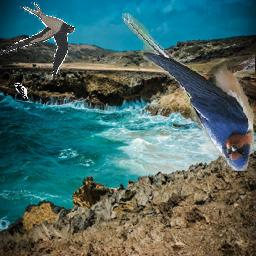Swallow: (123, 13, 256, 171), (1, 3, 76, 80)
Woodpecker: (14, 82, 28, 100)
